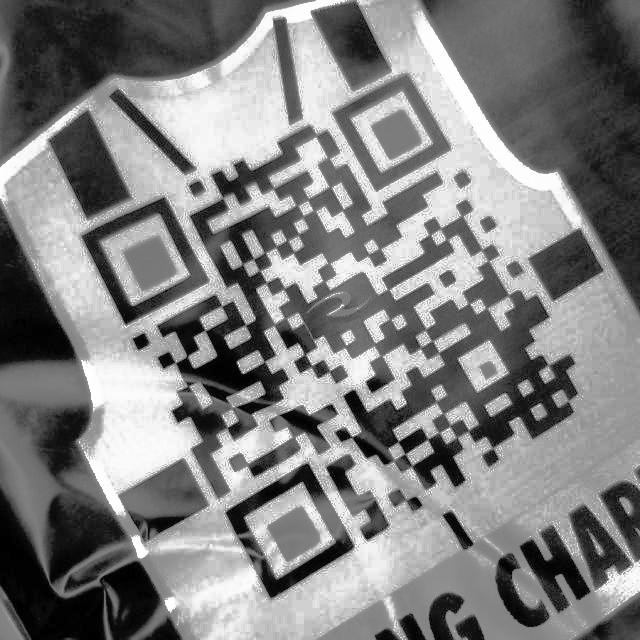qr_code: (65, 65, 587, 609)
